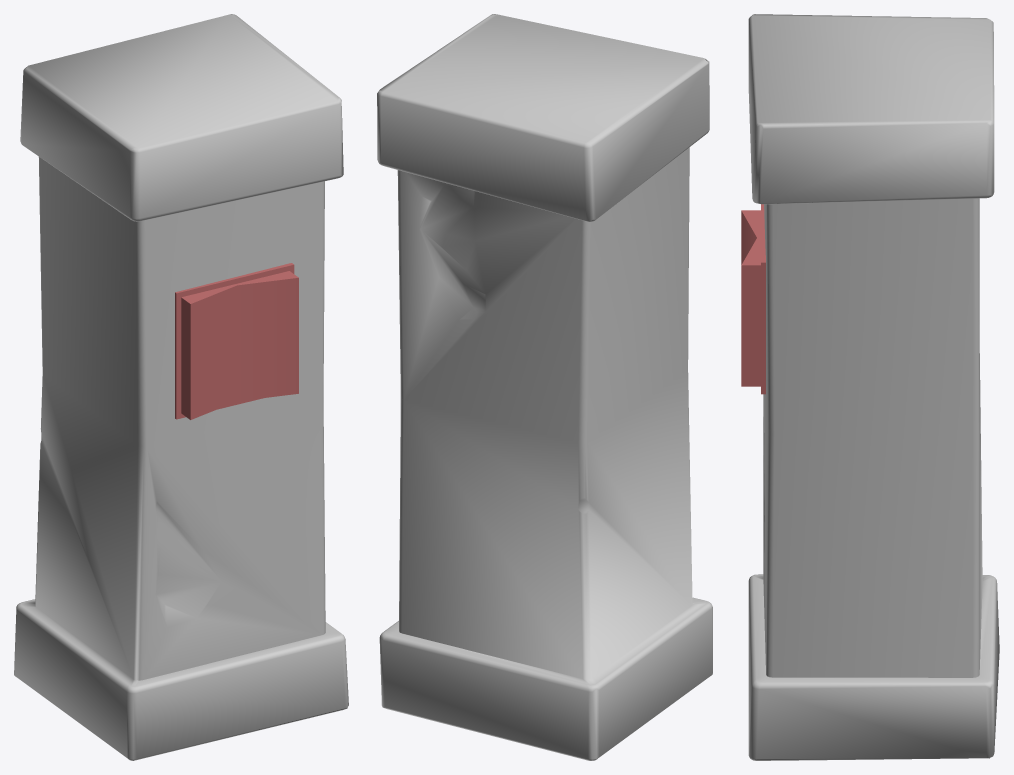
Rendered from Monumento.fbx.
3 renders of one model, left to right at view 1: azimuth 30°, elevation 25°; view 2: azimuth 150°, elevation 25°; view 3: azimuth 270°, elevation 25°, orthographic. The views are drawn at different scales.
Parts seen in each view (by area): view 1: Cubo, Cubo_1; view 2: Cubo; view 3: Cubo, Cubo_1.
Boxes of the visible parts, x1,y1,x2,y2 form: Cubo: (14,14,348,760); Cubo_1: (175,263,298,419); Cubo: (377,14,712,760); Cubo: (748,14,999,760); Cubo_1: (741,204,765,394).
Bounding box in the file's own units: 97.29 × 257 × 94.31.
